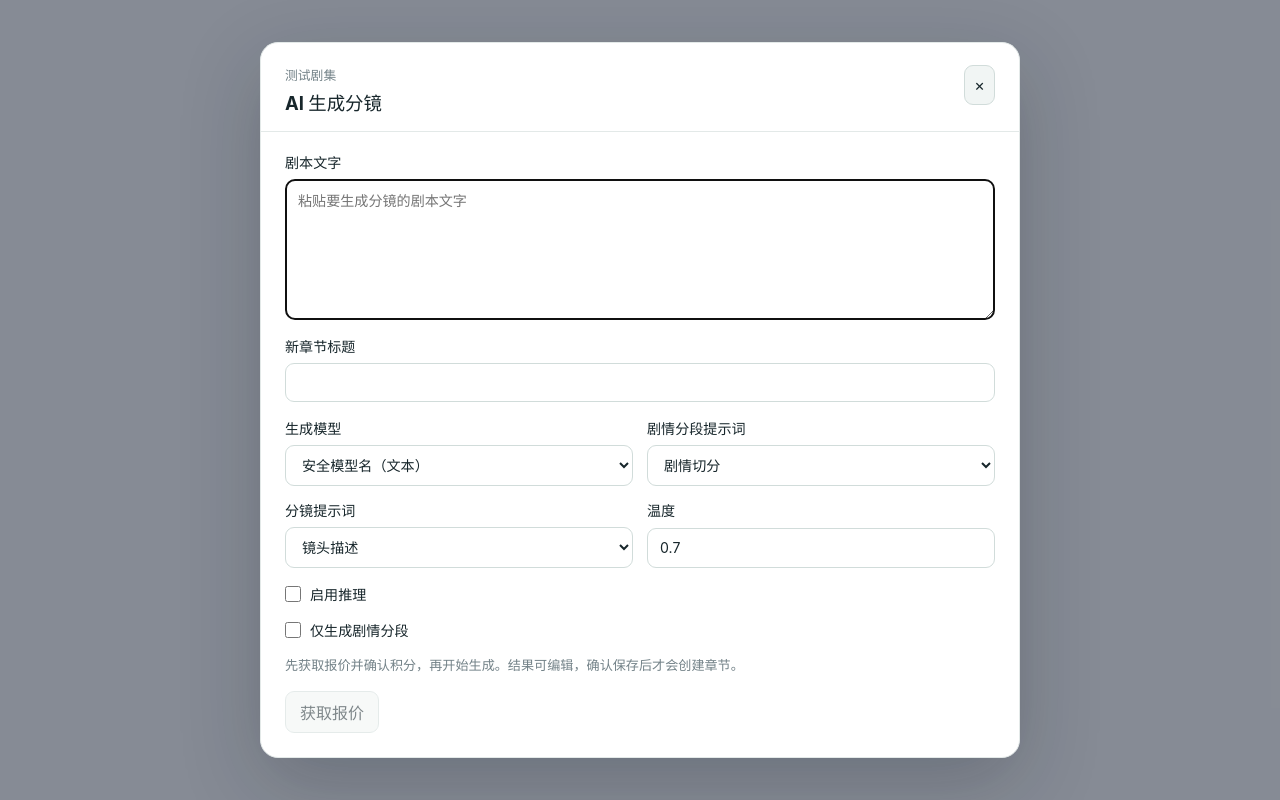
StoryboardGenerationDialog › keeps the script after a 503 and does not fall back to an unquoted generation path
Type "保留的剧本草稿" into the text box with placeholder "粘贴要生成分镜的剧本文字" at (640, 249), box [285, 179, 995, 320]
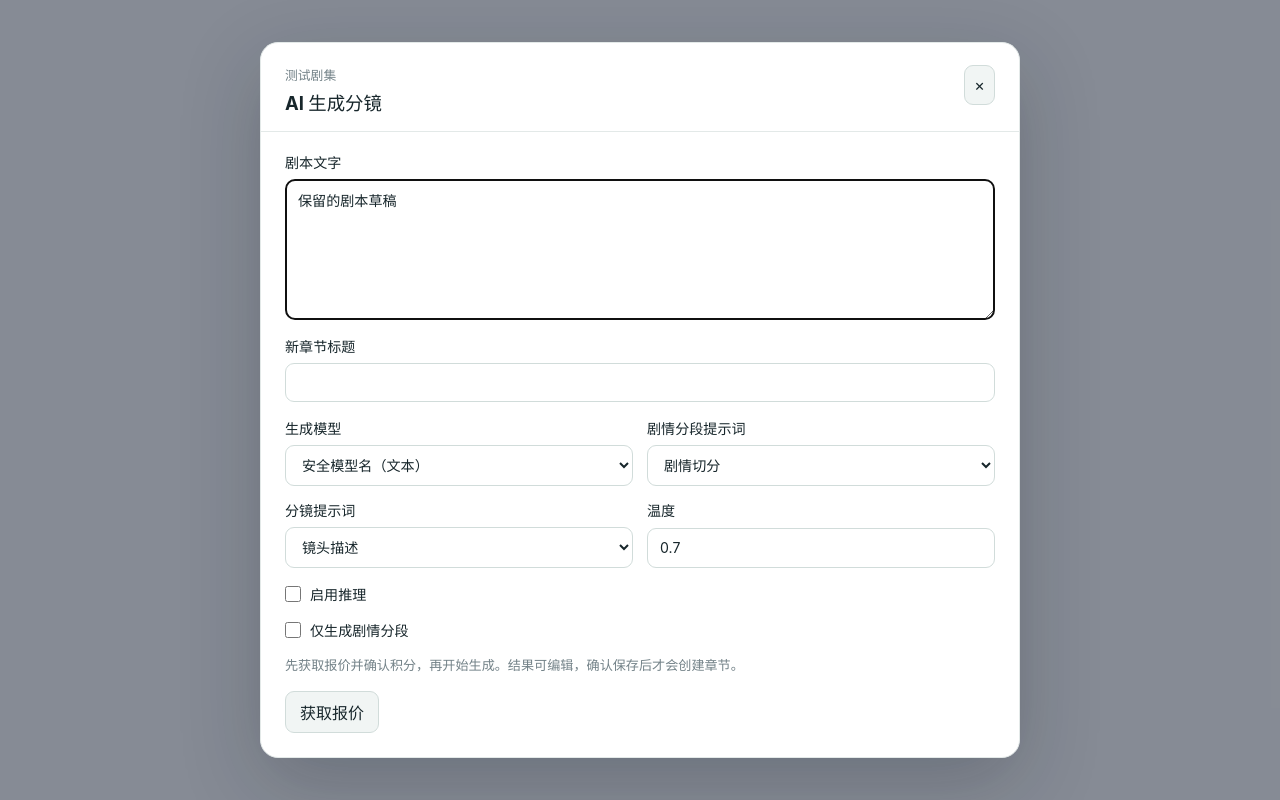
Click the button "获取报价" at (332, 712), box [285, 691, 379, 733]
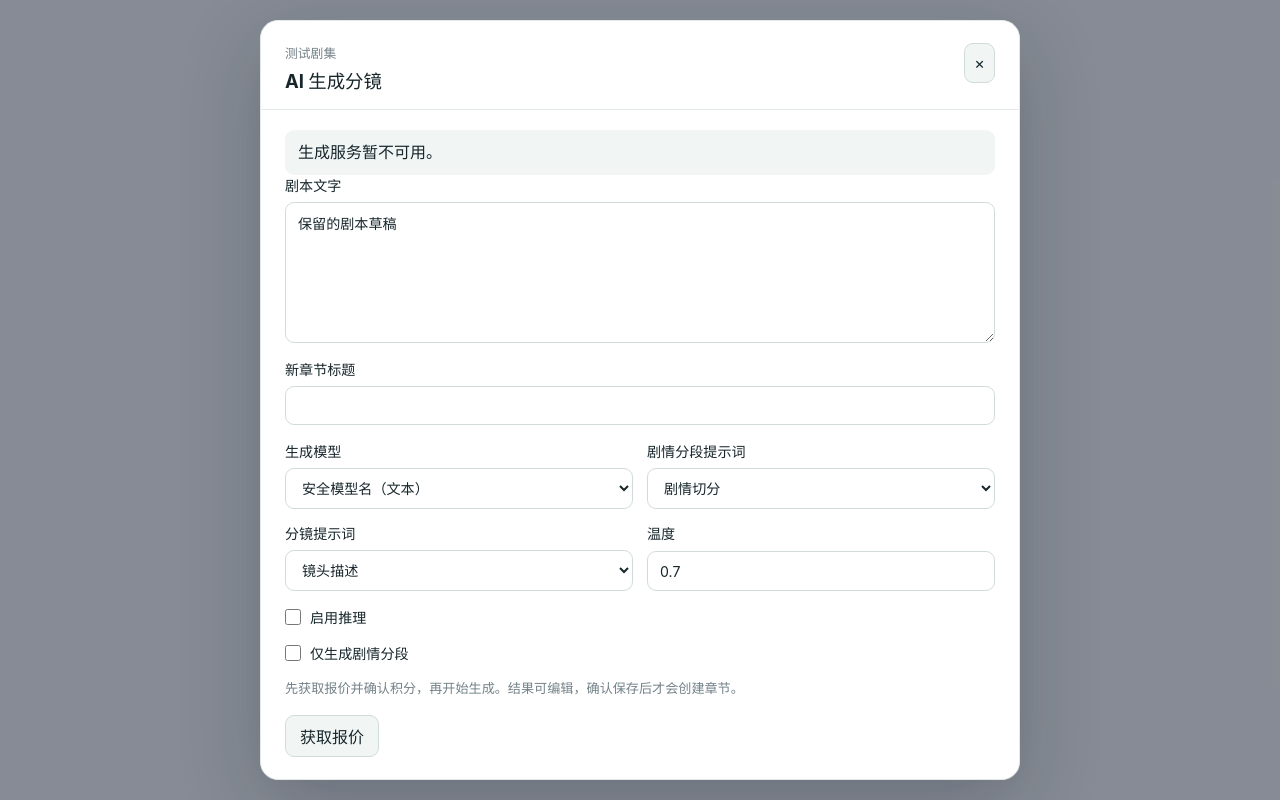
Result: the message reads "生成服务暂不可用。" at [298, 142, 442, 162]
